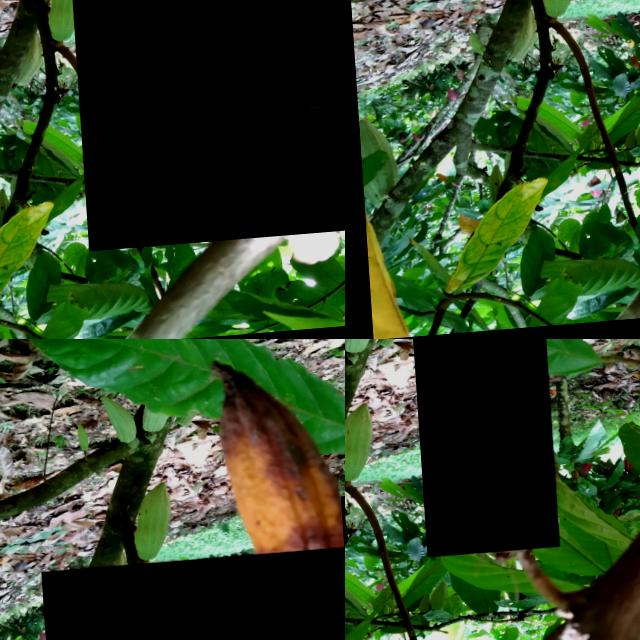Fitoftora: (407, 339, 553, 561), (300, 110, 345, 239)
Monilia: (36, 552, 345, 640)
Sana: (57, 0, 345, 255), (345, 410, 380, 484)
